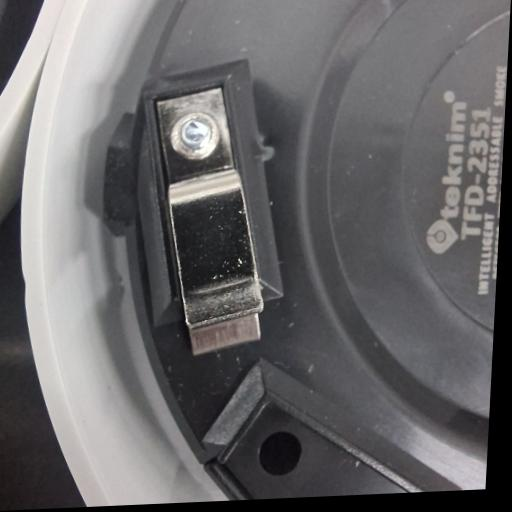yayli: (137, 78, 279, 356)
